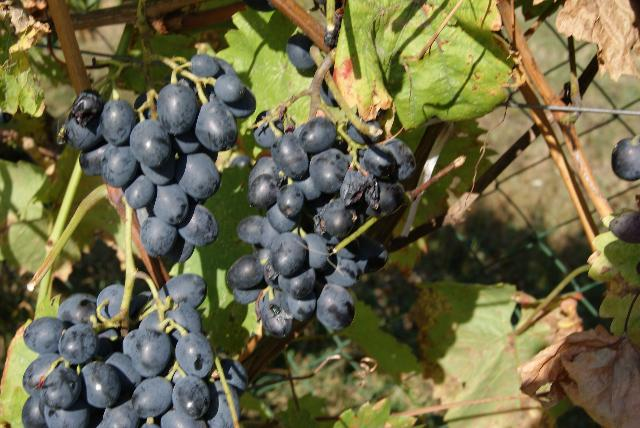grapes: (226, 114, 415, 340), (60, 55, 255, 261), (21, 275, 248, 428)
